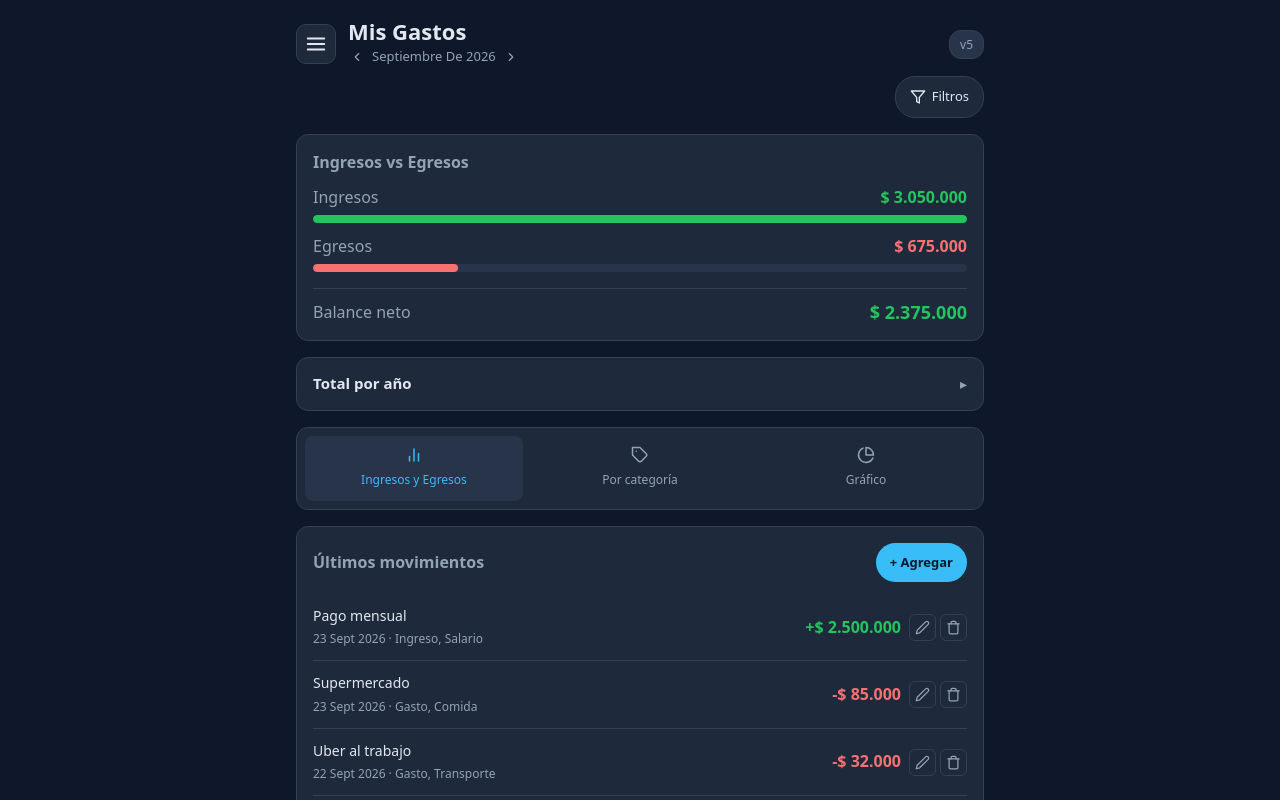
Test: Dashboard: agregar/eliminar actualiza las secciones › crear una categoría nueva desde el modal y guardar el registro funciona
The image size is (1280, 800).
Check: the heading "Ingresos vs Egresos" is shown, box x1=313 y1=151 x2=469 y2=173
Click the button "+ Agregar" at (921, 562), box x1=876 y1=543 x2=967 y2=582
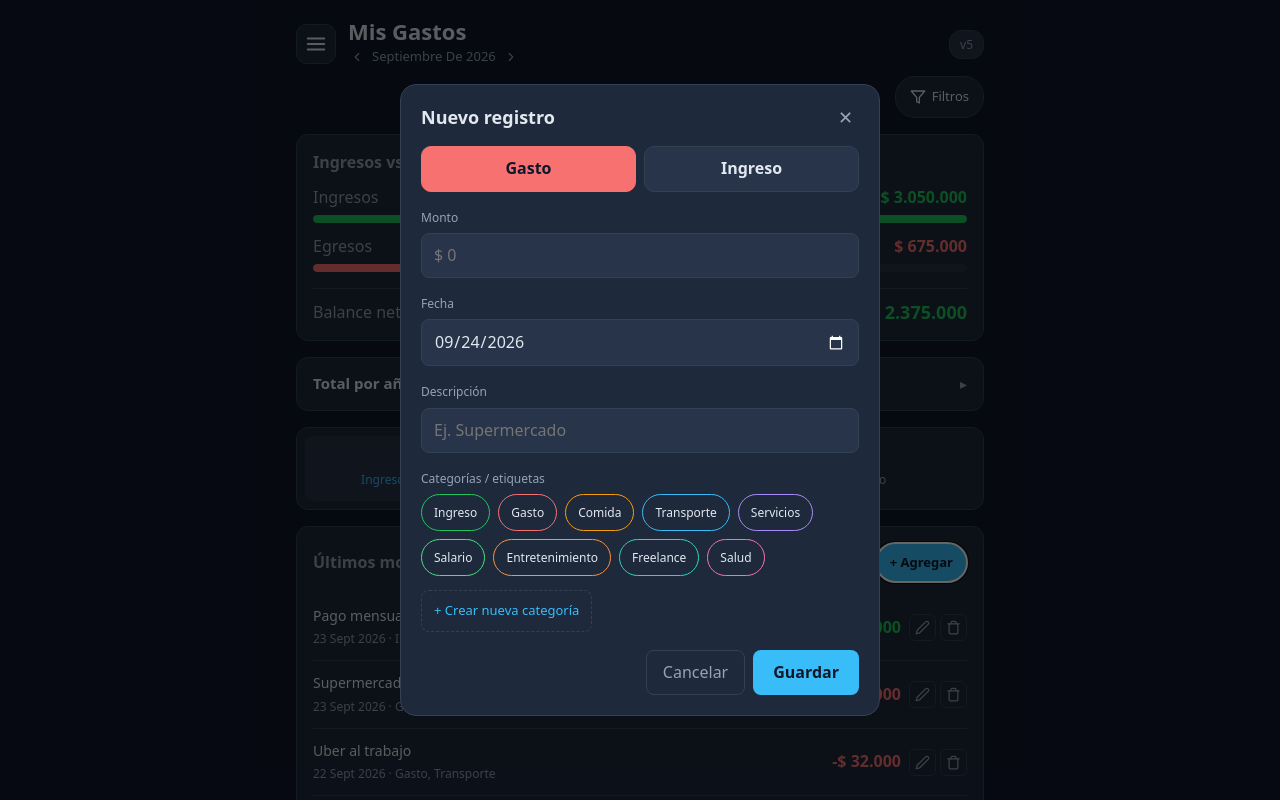
Crear categoría nueva desde el modal
Click the button "+ Crear nueva categoría" at (507, 611), box x1=421 y1=590 x2=592 y2=632
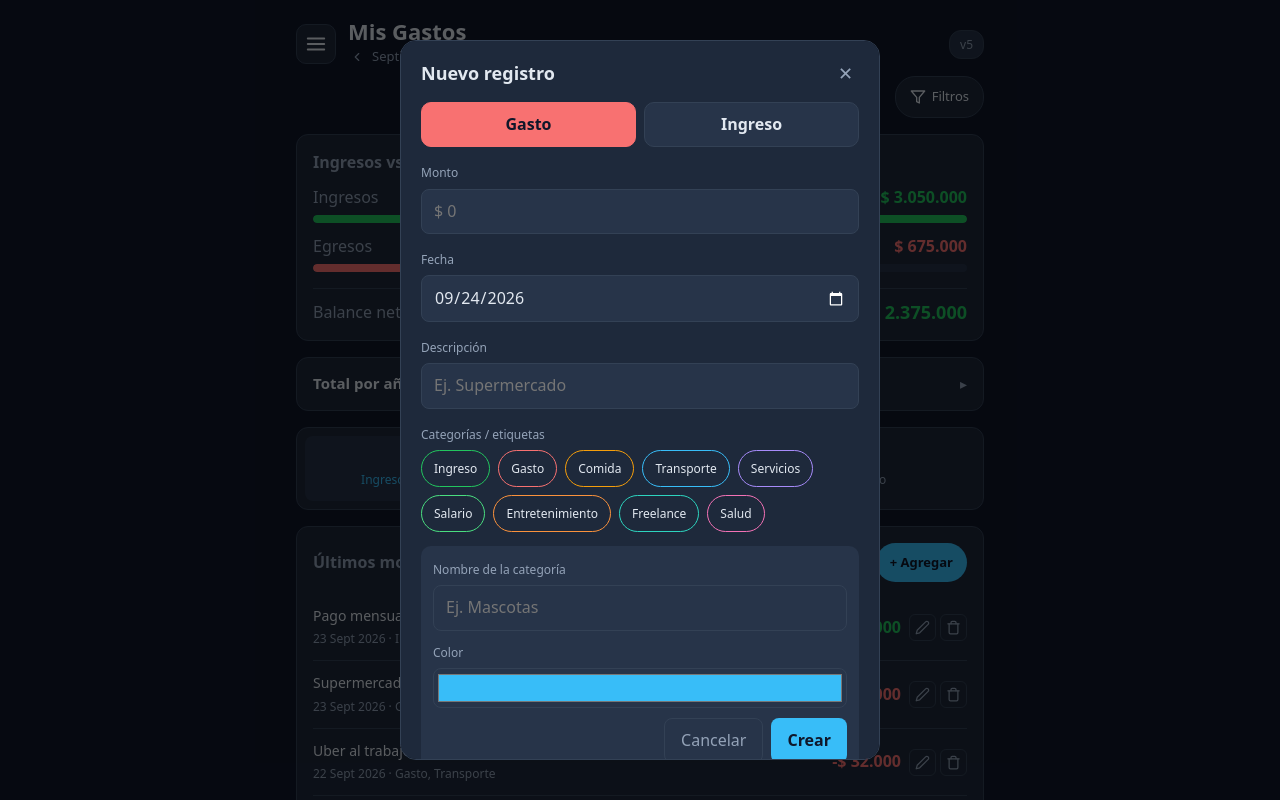
Type "Mascotas" into the field with placeholder "Ej. Mascotas" at (640, 608), box x1=433 y1=585 x2=847 y2=631
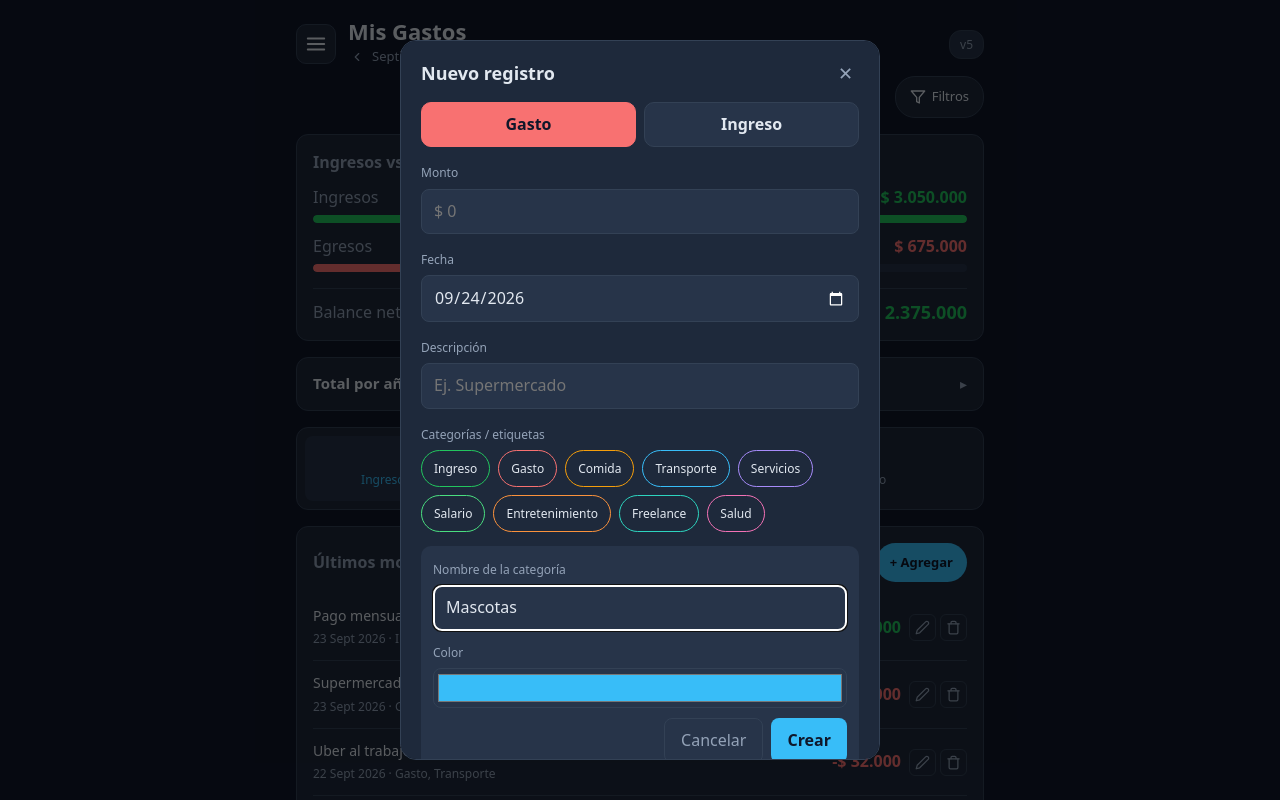
Click the button "Crear" at (809, 740), box x1=772 y1=718 x2=847 y2=763
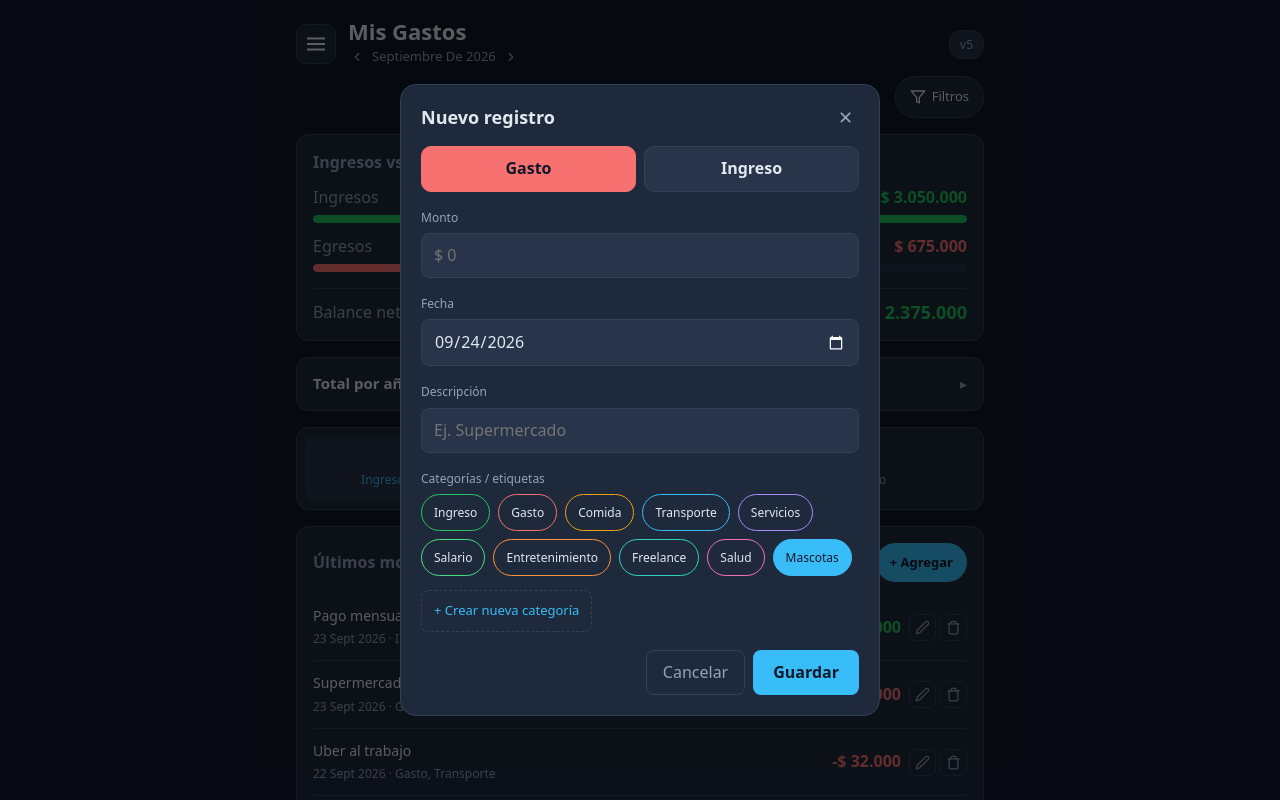
Check: the button "Mascotas" is shown, box x1=773 y1=539 x2=852 y2=576
Poner monto y guardar
Type "50000" into the field with placeholder "$ 0" at (640, 255), box x1=421 y1=233 x2=859 y2=278
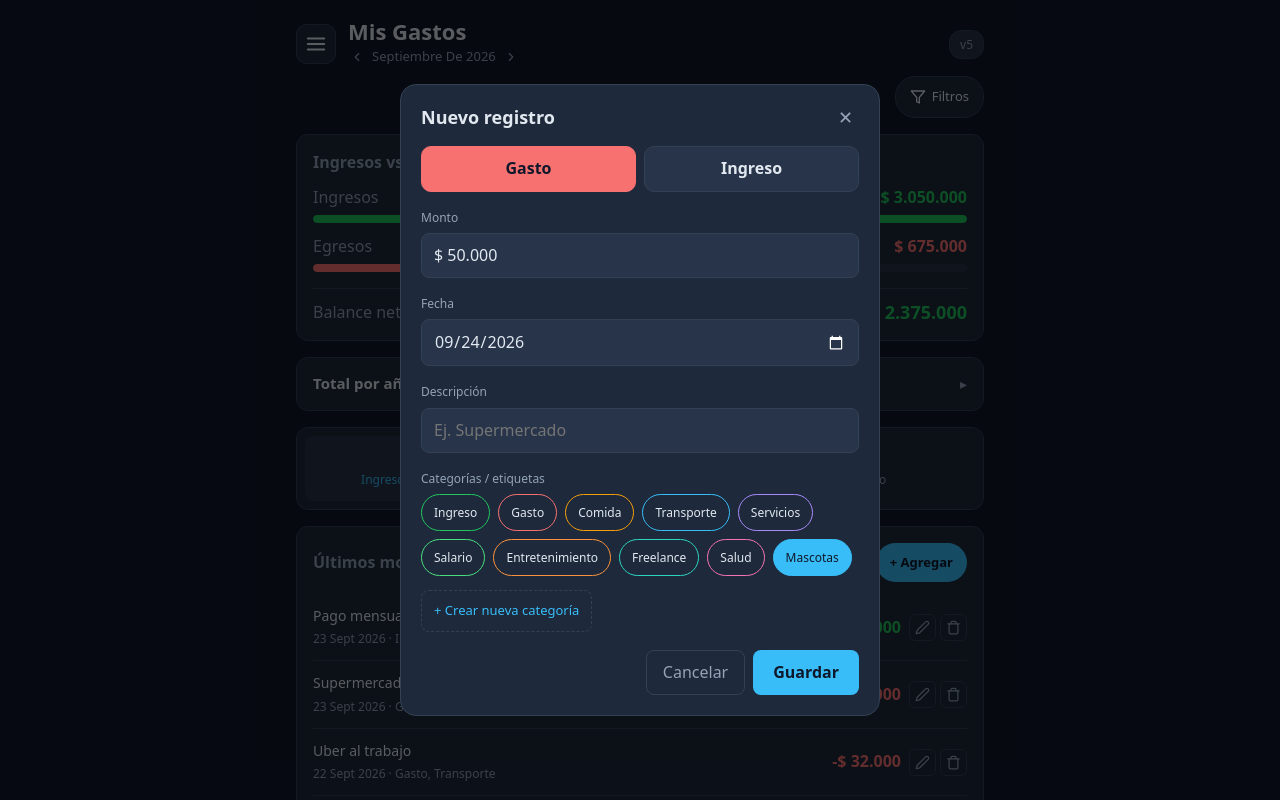
Click the button "Guardar" at (806, 672), box x1=753 y1=650 x2=859 y2=695
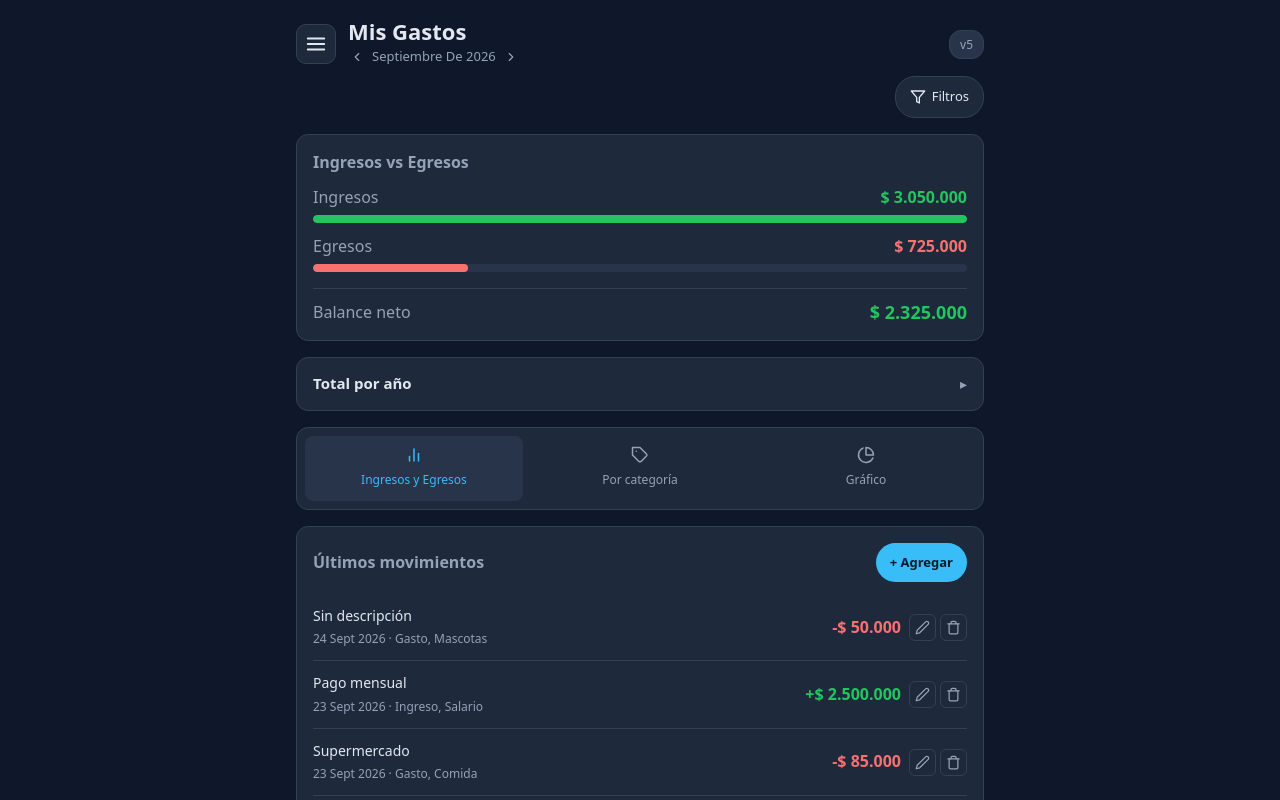
Check: the text "Sin descripción" is shown, box x1=313 y1=606 x2=412 y2=625
